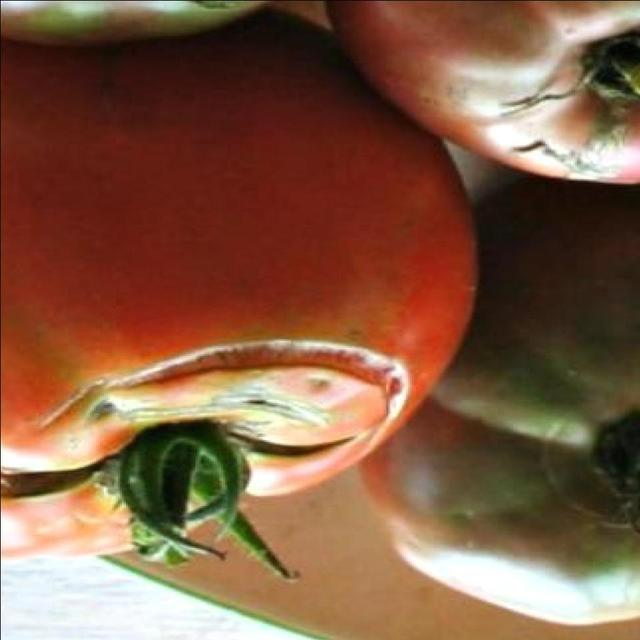Cracking Fruit: (112, 28, 282, 298)
